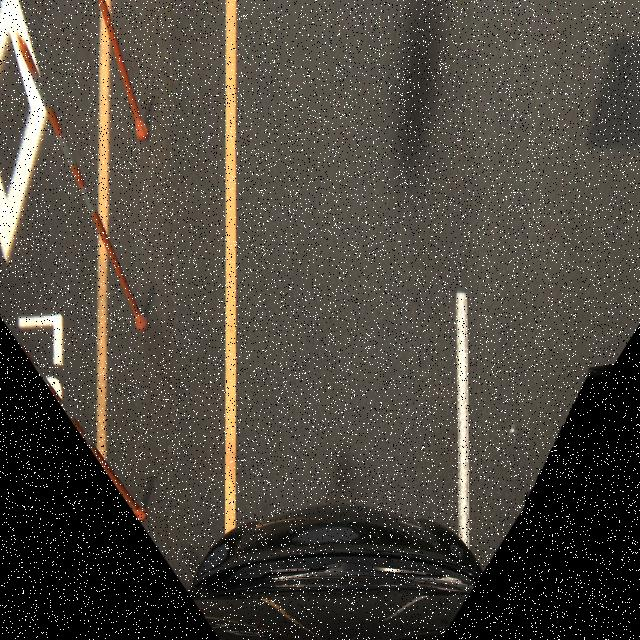diamond: (525, 366, 640, 640)
